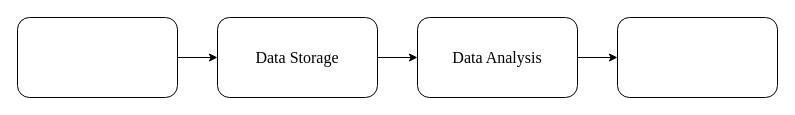
Some shapes in this 795 by 115 pixel diagram are drawn without their labels. The shapes that lost their labels are listed below. From the top down, each one's centre as x and y in pixels, then its label:
At point (97, 57): "Data Acquisition".
At point (697, 57): "Data Visualization".
